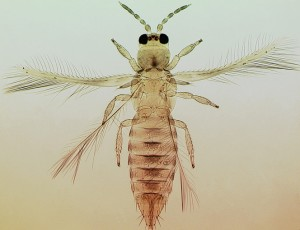Thripidae: (2, 2, 300, 228)
